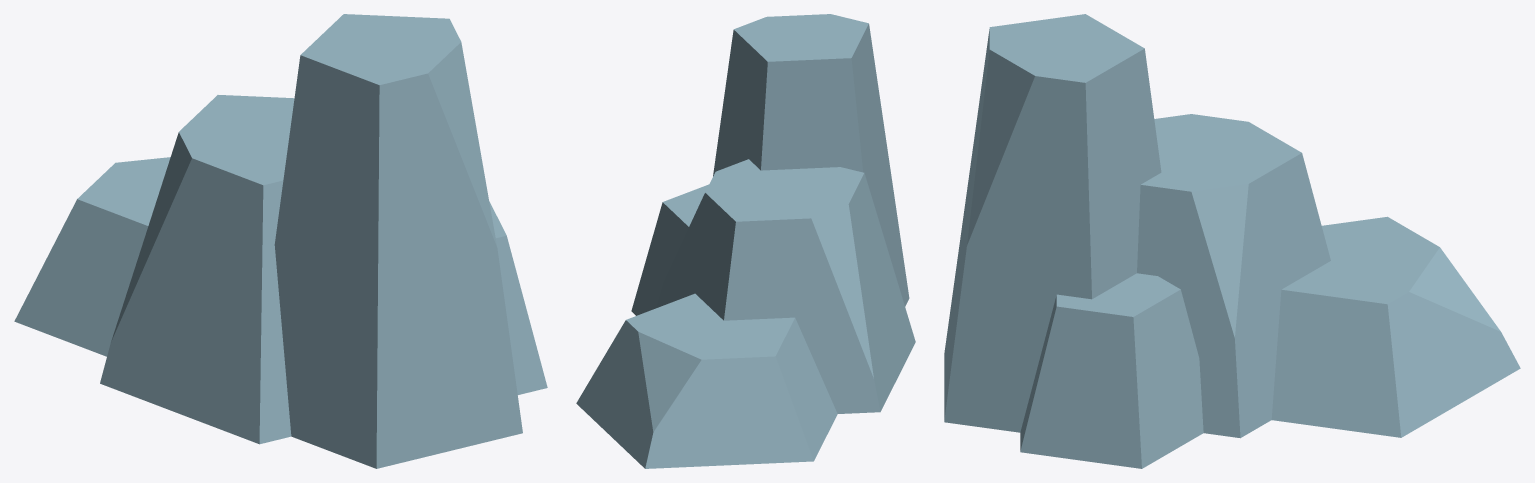
File: d_kenney_rocher_large.glb
The picture shows the model from 3 angles, left to right: view 1: azimuth 30°, elevation 25°; view 2: azimuth 150°, elevation 25°; view 3: azimuth 270°, elevation 25°; orthographic projection. The views are drawn at different scales.
Parts seen in each view (by area): view 1: d_kenney_rocher_large; view 2: d_kenney_rocher_large; view 3: d_kenney_rocher_large.
Part boxes in pixels (x1,y1,x2,y2): d_kenney_rocher_large: [14, 14, 547, 468]; d_kenney_rocher_large: [576, 14, 915, 468]; d_kenney_rocher_large: [944, 14, 1520, 468].
Size of the model in its own units: 1.09 by 1.02 by 1.57.
Materials: 1 (1 with a texture image).
